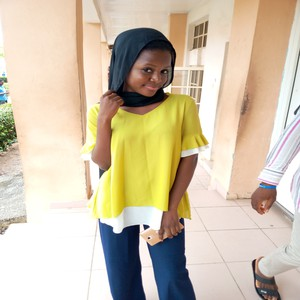Fulokoja_female_student: (102, 39, 192, 291)
